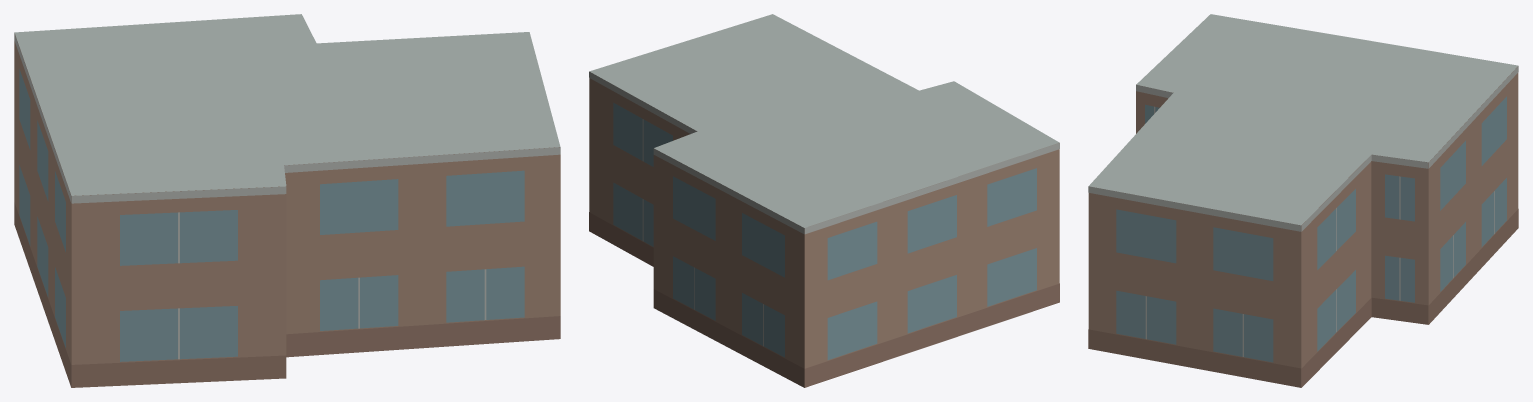
Rendered from survey-upis-32687335.glb.
3 views of the same model, side by side, from view 1: azimuth 30°, elevation 25°; view 2: azimuth 150°, elevation 25°; view 3: azimuth 270°, elevation 25° (orthographic). The views are drawn at different scales.
Visible parts, largest first — view 1: survey-upis-32687335.tmp; view 2: survey-upis-32687335.tmp; view 3: survey-upis-32687335.tmp.
Part boxes in pixels (x1,y1,x2,y2): survey-upis-32687335.tmp: (14,14,560,387); survey-upis-32687335.tmp: (589,14,1059,387); survey-upis-32687335.tmp: (1088,14,1518,387).
Size of the model in its own units: 17.03 by 6.1 by 14.64.
